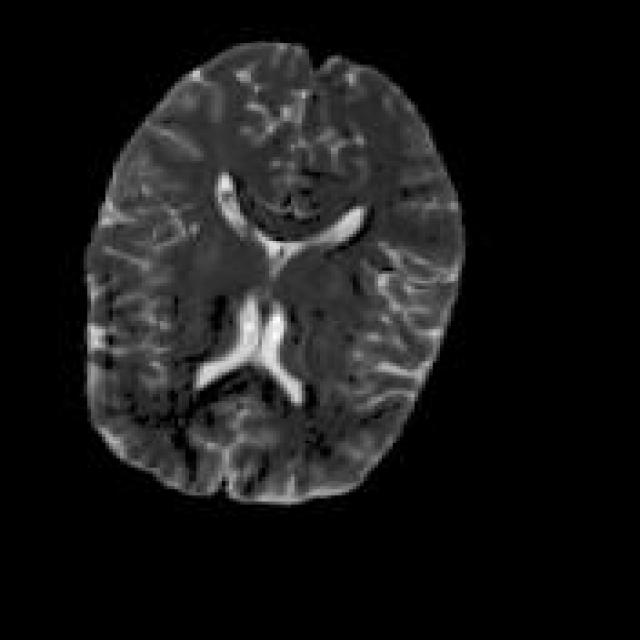parkinson: (80, 37, 465, 505)
